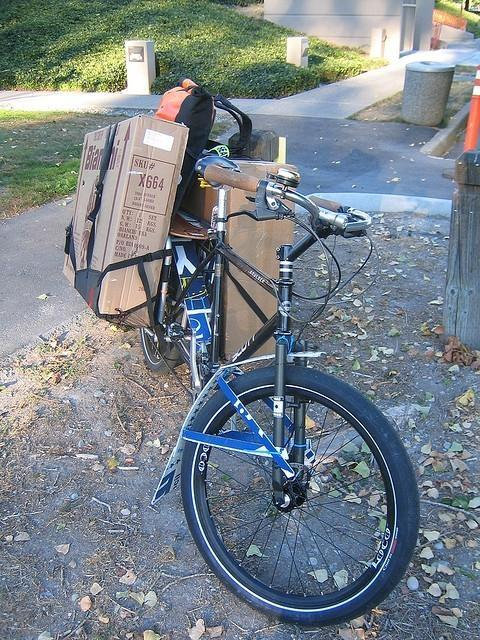bicycle: (147, 182, 417, 629)
